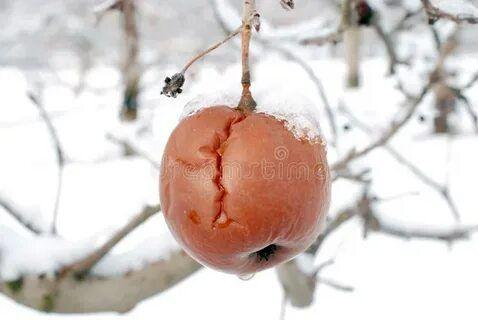Apple: (159, 101, 331, 273)
